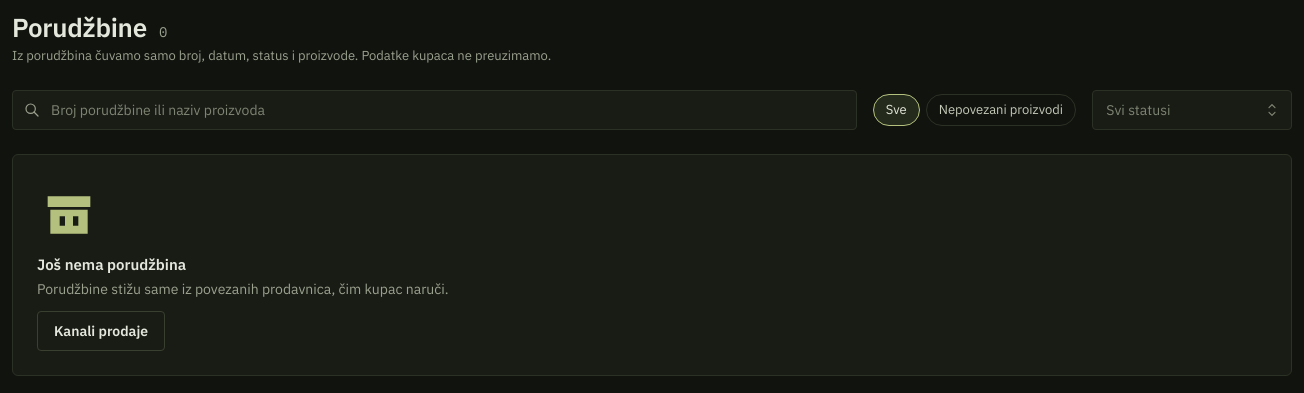
Test: OrdersPage › Search_Typed_RequestsFilteredListFromServer
Check: the heading "Još nema porudžbina" is shown, box top-left (37, 255), bottom-right (186, 274)
In the search field with placeholder "Broj porudžbine ili naziv proizvoda": (434, 110) top-left (12, 90), bottom-right (857, 130), type "1041"
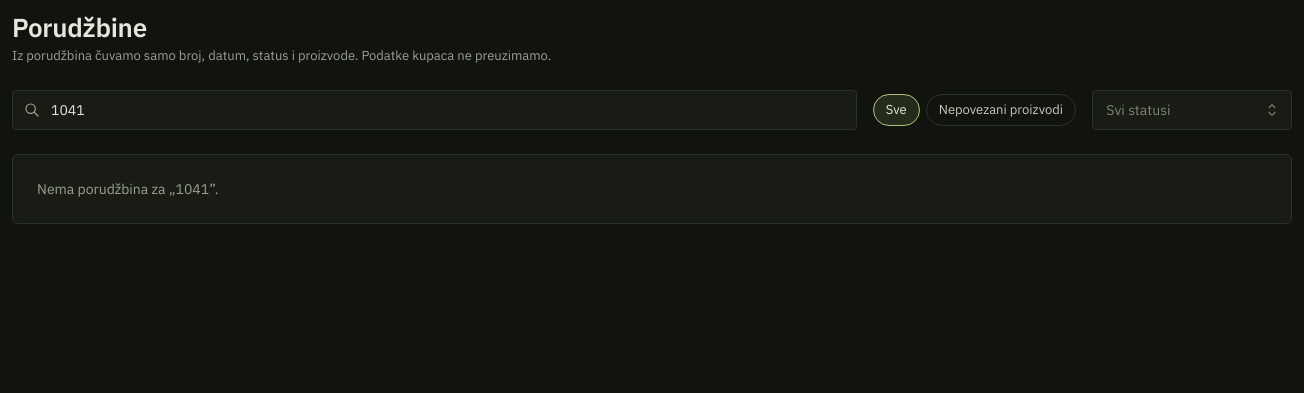
Check: the text "Nema porudžbina za „1041”." is shown, box top-left (37, 180), bottom-right (219, 198)
